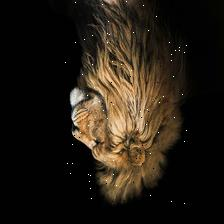Lion: (65, 0, 188, 205)
